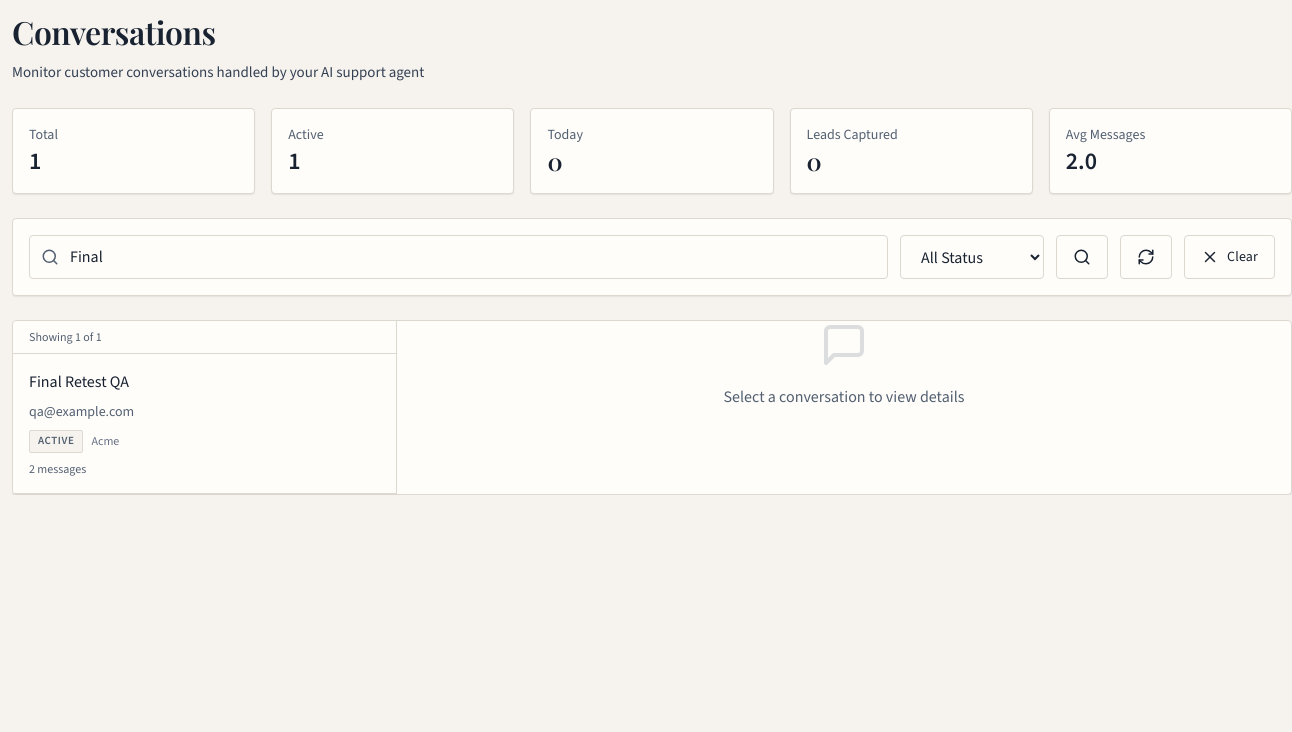
Test: Conversations search, filters, retry, and accessibility › restores results when Clear is used after a search
Expected: the field showing "Final" is shown, [29,235,888,279]
Expected: the text "Other Customer" is not shown
Click the button "Clear" at x=1230, y=257, box [1184,235,1275,279]
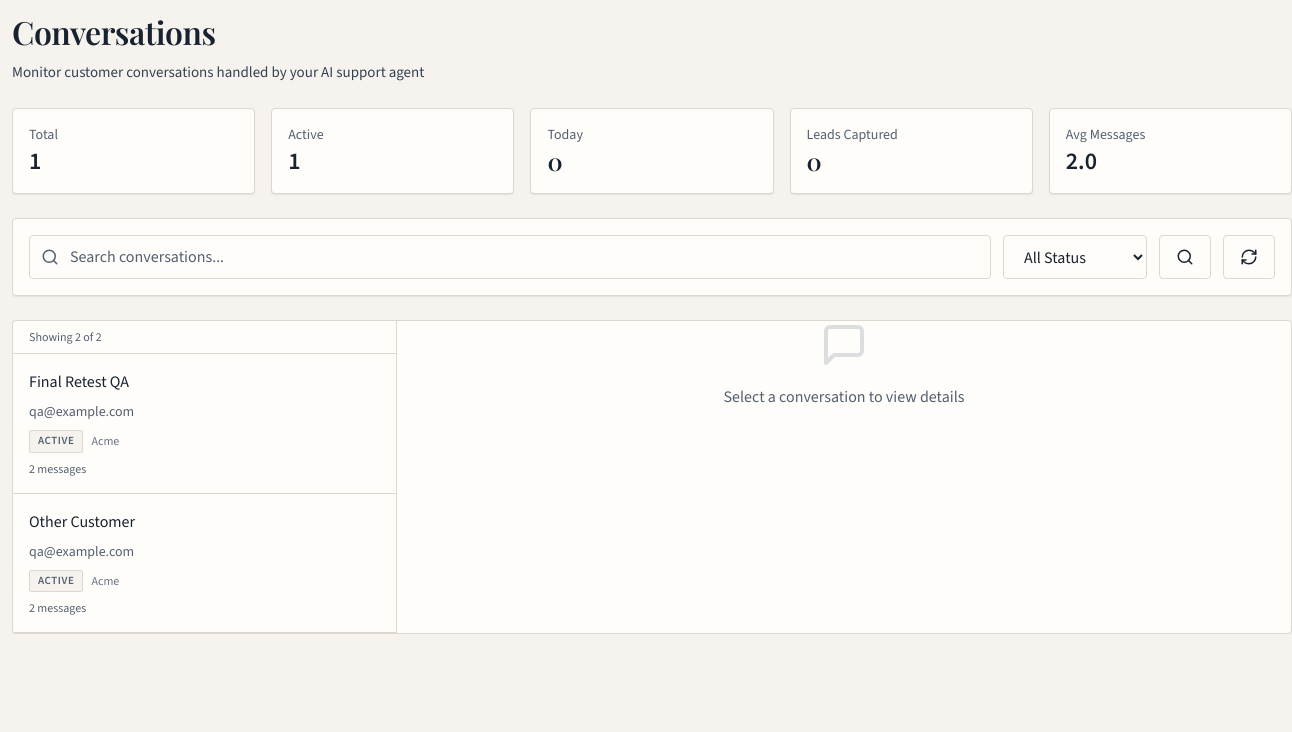
Expected: the text "Other Customer" is shown, [29,510,135,534]
